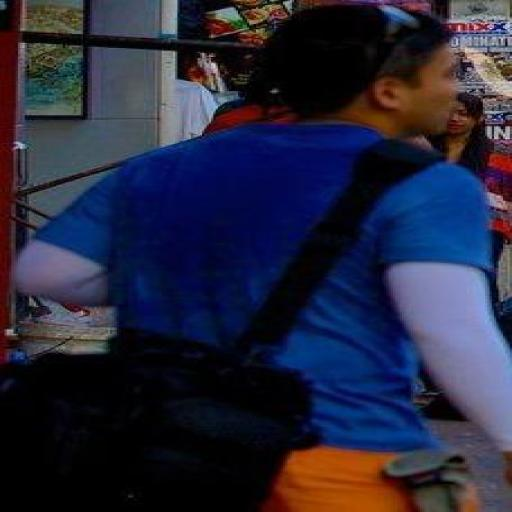person: (263, 162, 511, 511), (432, 93, 511, 307)
